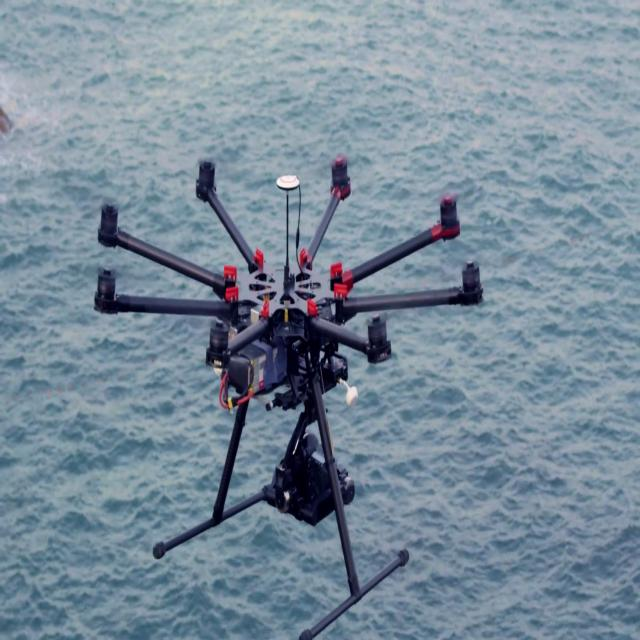drone: (67, 116, 498, 640)
